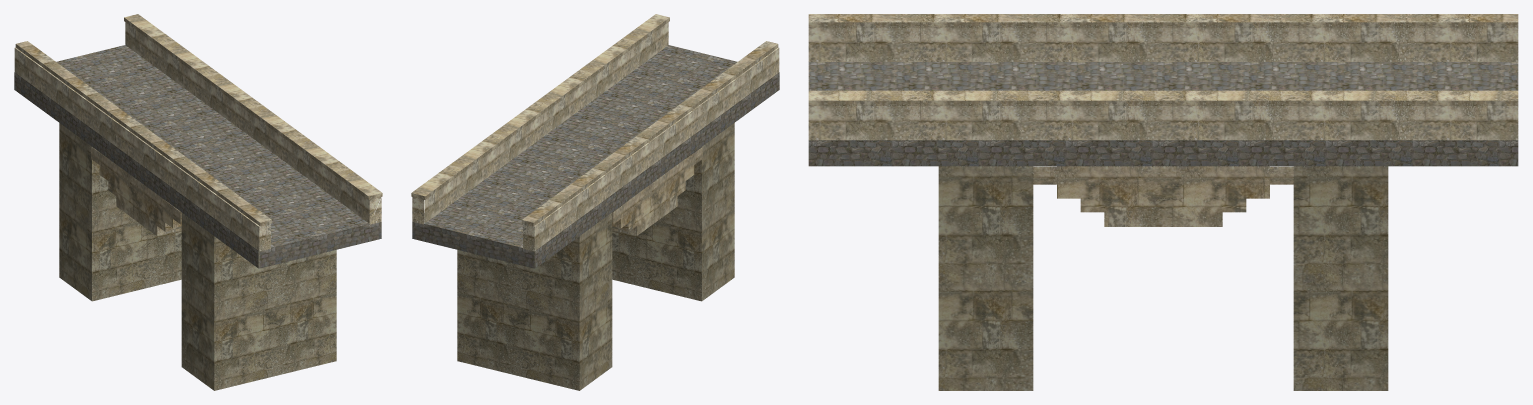
File: bw-bridge.zfix-v14.lod0.glb
3 views of the same model, side by side, from view 1: azimuth 30°, elevation 25°; view 2: azimuth 150°, elevation 25°; view 3: azimuth 270°, elevation 25° (orthographic). The views are drawn at different scales.
Visible parts, largest first — view 1: bw-bridge; view 2: bw-bridge; view 3: bw-bridge.
Boxes of the visible parts, left/top/right/bottom form: bw-bridge: left=14, top=14, right=382, bottom=390; bw-bridge: left=411, top=14, right=779, bottom=390; bw-bridge: left=808, top=14, right=1518, bottom=390.
Size of the model in its own units: 5.29 by 8.15 by 18.03.
Materials: 2 (2 with a texture image).
